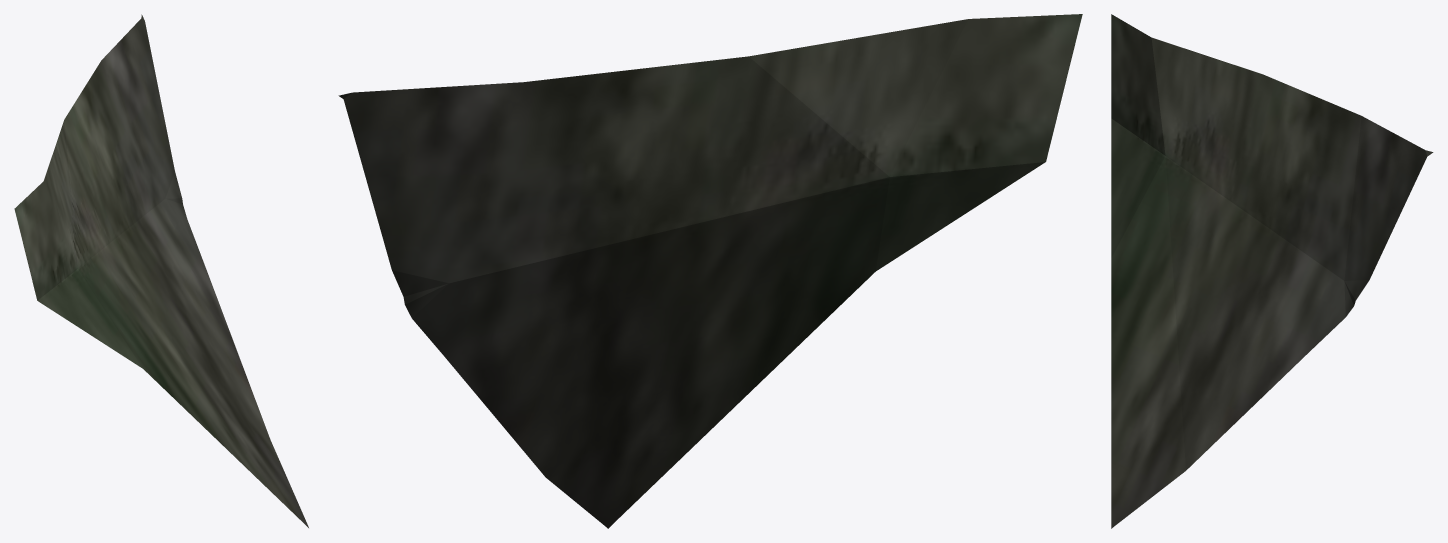
3 renders of one model, left to right at view 1: azimuth 30°, elevation 25°; view 2: azimuth 150°, elevation 25°; view 3: azimuth 270°, elevation 25°, orthographic. The views are drawn at different scales.
Size of the model in its own units: 1.55 by 1.96 by 1.52.
1 material, 1 textured.
